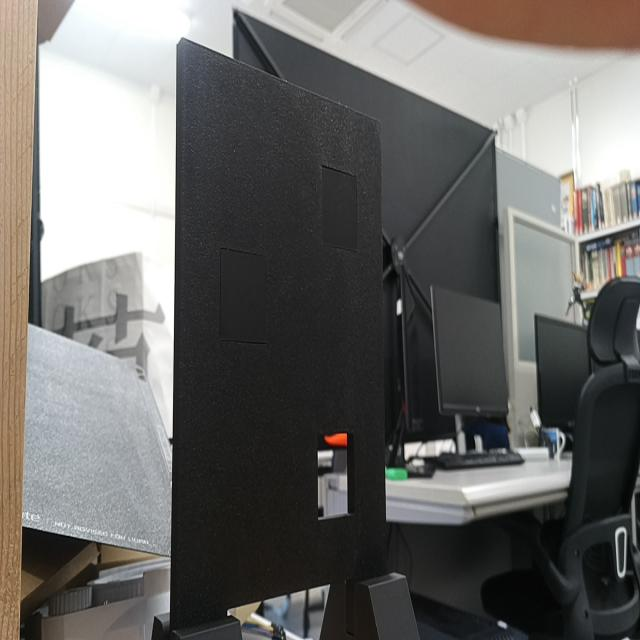Obstacle: (315, 433, 354, 518)
Wall: (170, 40, 386, 628)
